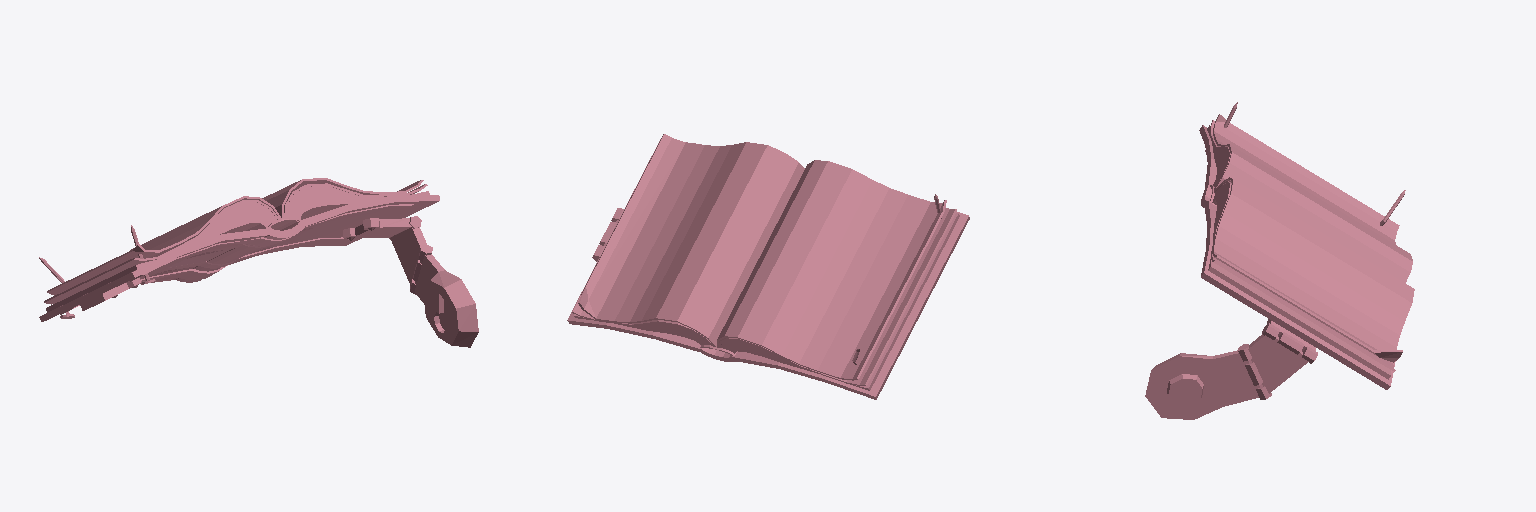
The model's file is spellbook.obj.
3 views of the same model, side by side, from view 1: azimuth 30°, elevation 25°; view 2: azimuth 150°, elevation 25°; view 3: azimuth 270°, elevation 25° (orthographic).
Parts seen in each view (by area): view 1: hwn_spellbook_upright_reference.002; view 2: hwn_spellbook_upright_reference.002; view 3: hwn_spellbook_upright_reference.002.
Part boxes in pixels (left/top/right/bottom): hwn_spellbook_upright_reference.002: left=39, top=178, right=478, bottom=347; hwn_spellbook_upright_reference.002: left=567, top=134, right=969, bottom=399; hwn_spellbook_upright_reference.002: left=1145, top=102, right=1414, bottom=419.
Size of the model in its own units: 5.78 by 3 by 4.16.